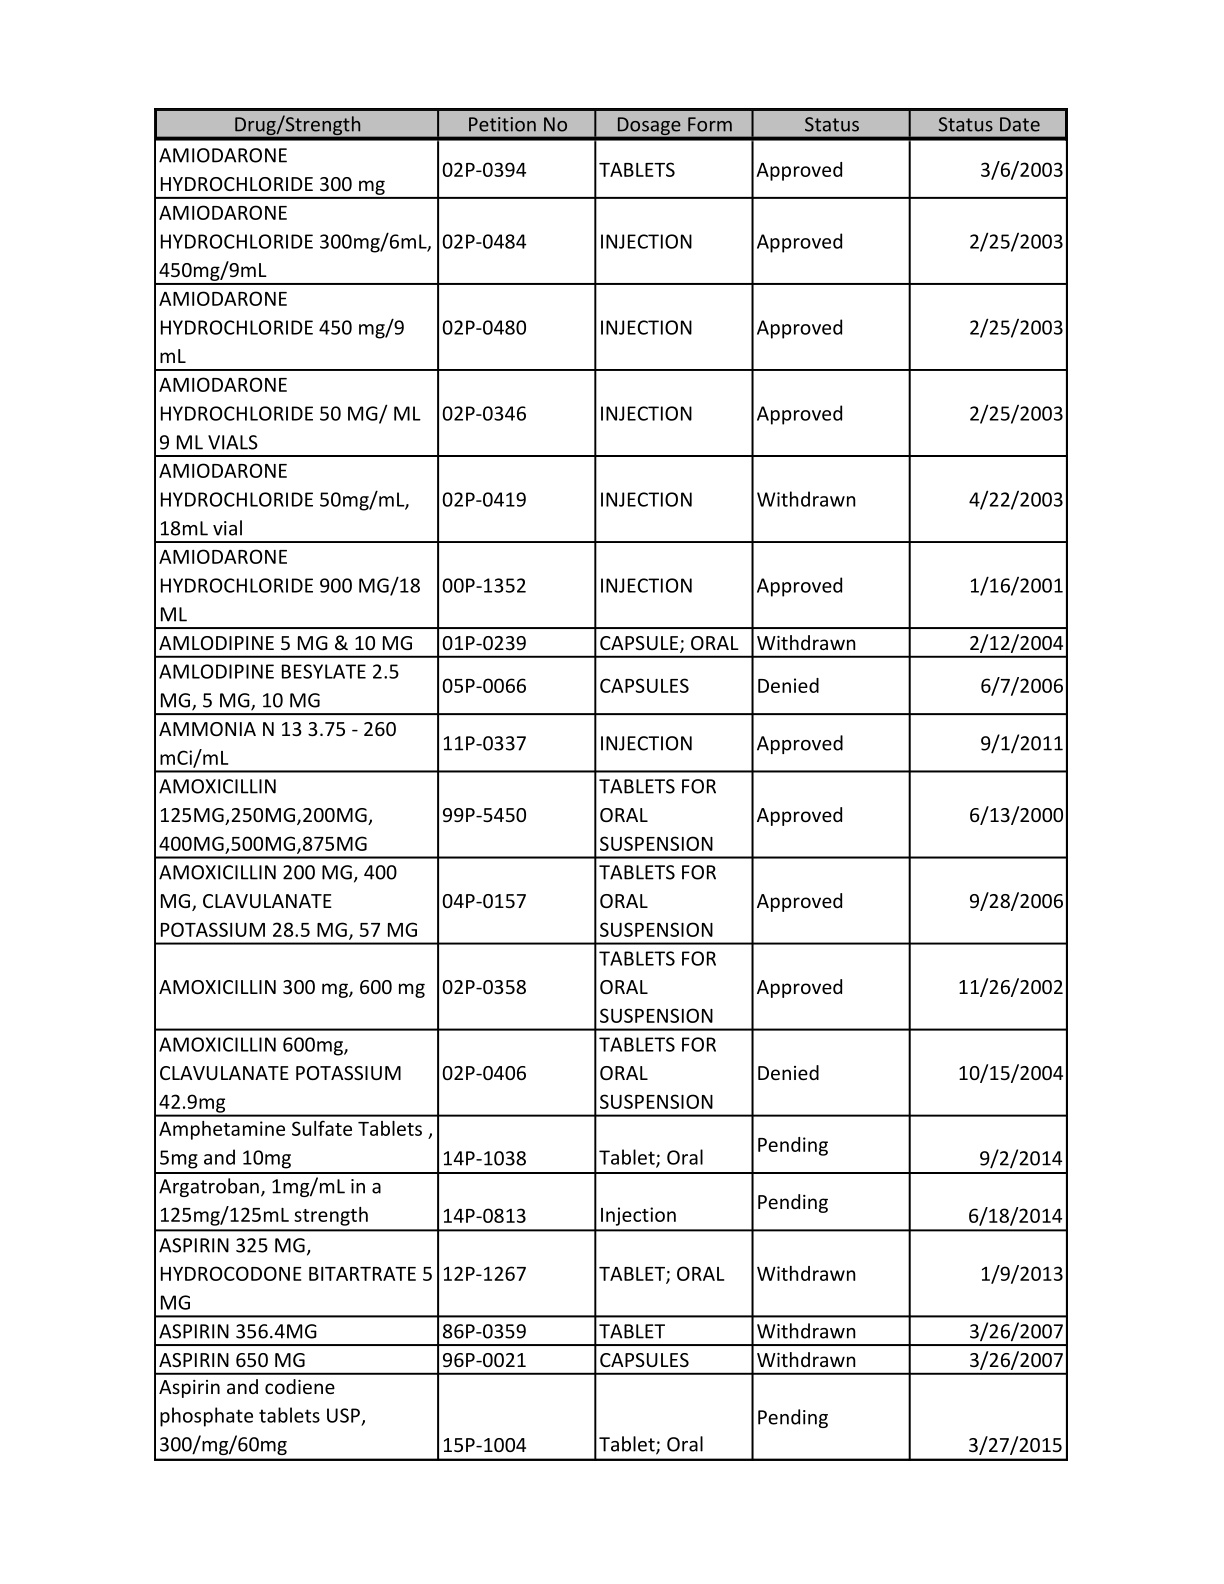full_lined: (148, 104, 1076, 1475)
